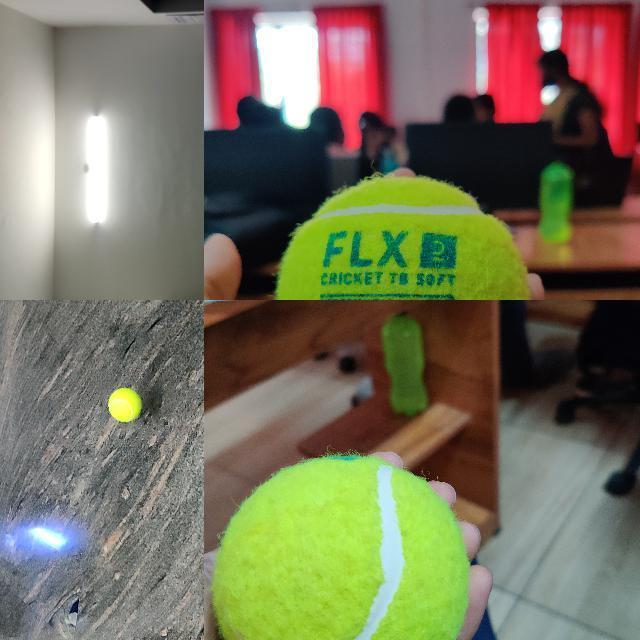tennis-ball: (213, 455, 470, 639), (274, 177, 530, 299), (108, 388, 142, 423)
